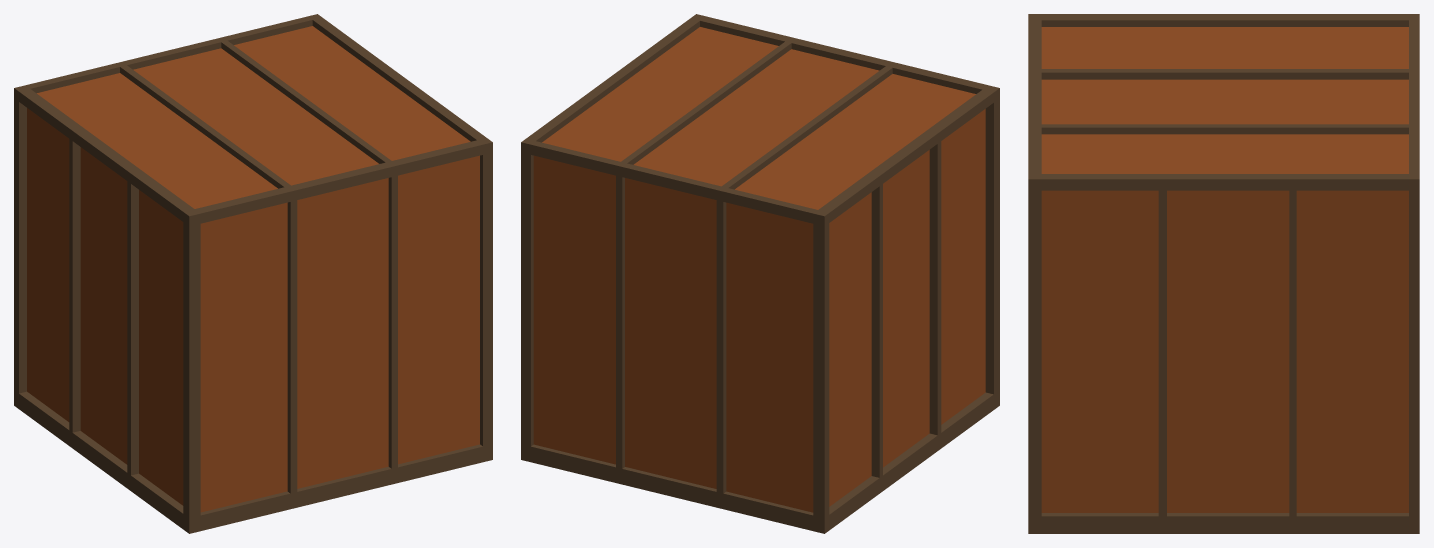
Rendered from Caja2.fbx.
The picture shows the model from 3 angles, left to right: view 1: azimuth 30°, elevation 25°; view 2: azimuth 150°, elevation 25°; view 3: azimuth 270°, elevation 25°; orthographic projection. The views are drawn at different scales.
Visible parts, largest first — view 1: Cube; view 2: Cube; view 3: Cube.
Boxes of the visible parts, box(x1,y1,x2,y2) form: Cube: box(14, 14, 492, 533); Cube: box(521, 14, 999, 533); Cube: box(1028, 14, 1419, 533).
Bounding box in the file's own units: 200 × 200 × 200.
